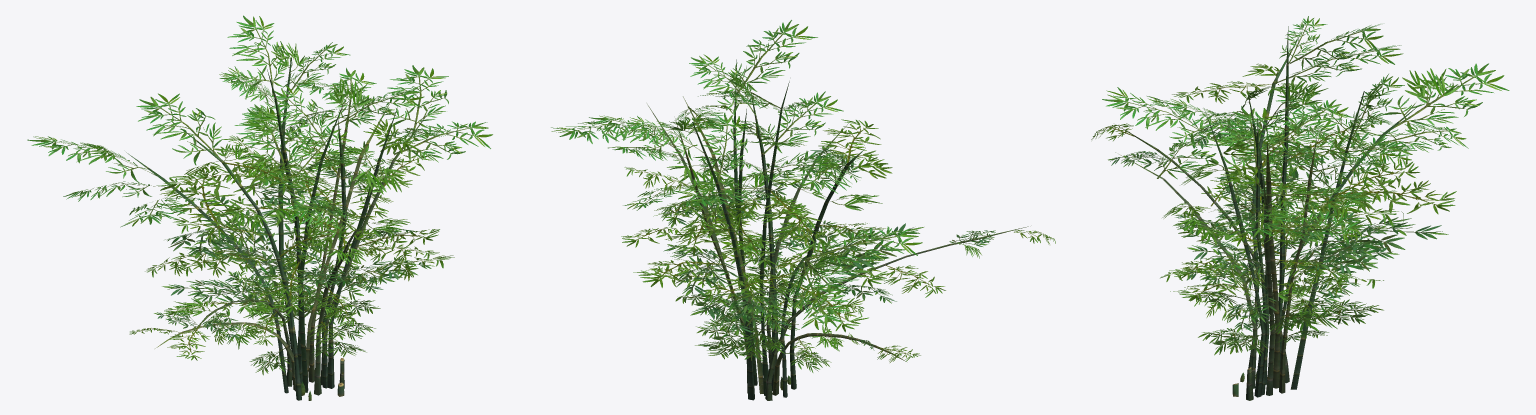
File: Yland1_yz_11 Yland1.FBX
The picture shows the model from 3 angles, left to right: view 1: azimuth 30°, elevation 25°; view 2: azimuth 150°, elevation 25°; view 3: azimuth 270°, elevation 25°; orthographic projection. The views are drawn at different scales.
Visible parts, largest first — view 1: Yland1_yz_11 Yland1; view 2: Yland1_yz_11 Yland1; view 3: Yland1_yz_11 Yland1.
Part boxes in pixels (x1,y1,x2,y2): Yland1_yz_11 Yland1: (27, 15, 492, 400); Yland1_yz_11 Yland1: (551, 20, 1055, 400); Yland1_yz_11 Yland1: (1091, 16, 1509, 400).
Bounding box in the file's own units: 18.37 × 14.84 × 16.28.
